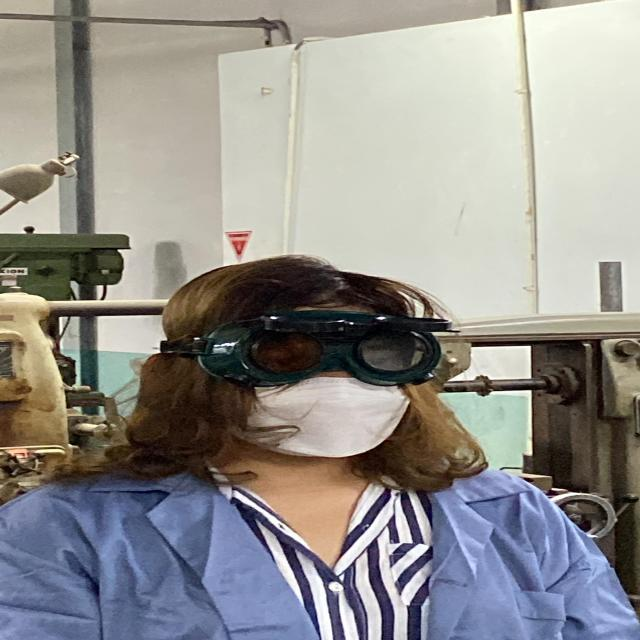glasses: (150, 305, 468, 387)
